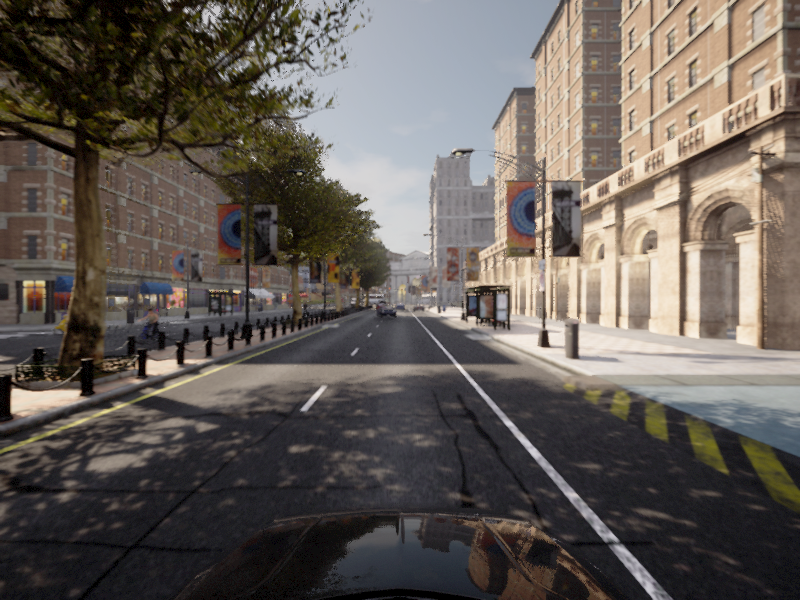vehicle: (129, 307, 169, 345), (51, 306, 96, 336), (375, 305, 397, 318), (300, 301, 309, 316)
